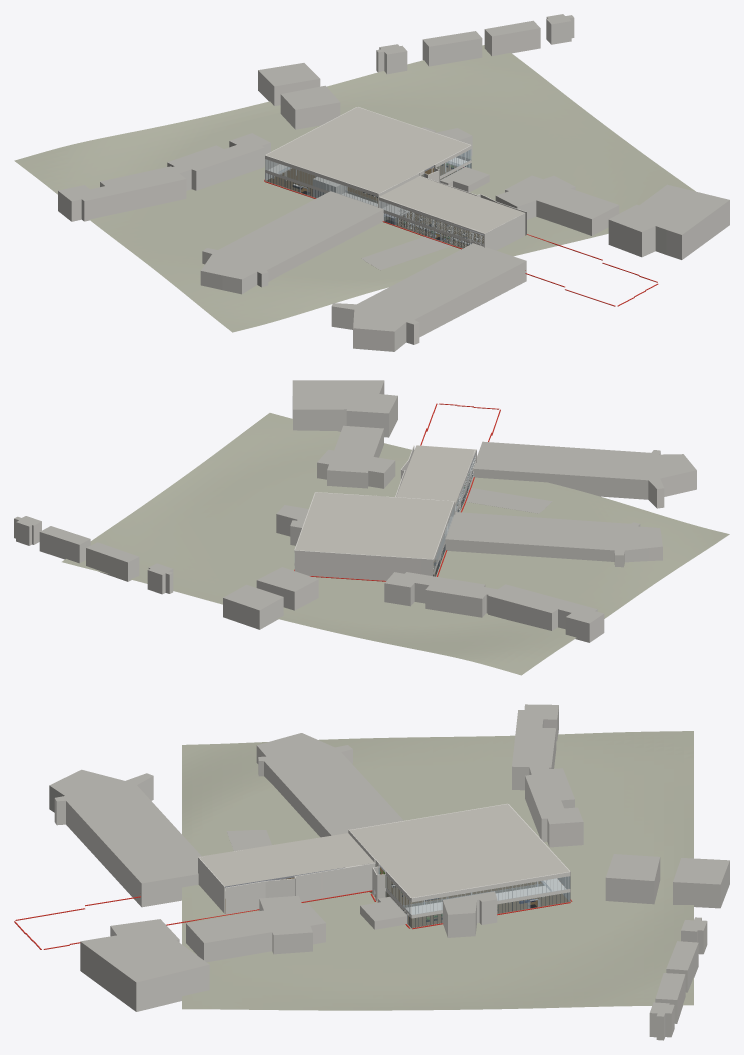
Rendered from NovaHallContext.fbx.
3 renders of one model, top to bottom at view 1: azimuth 30°, elevation 25°; view 2: azimuth 150°, elevation 25°; view 3: azimuth 270°, elevation 25°, orthographic. The views are drawn at different scales.
Visible parts, largest first — view 1: Context_Ground, Hall_Roof, B_w1174472383, B_w496301640, B_w622493089, B_w496301627, Hall_Shell, B_w496301632, Hall_Structure, B_w179614712, B_w179614681, B_w228204163 (+6 smaller); view 2: Context_Ground, Hall_Roof, B_w1174472383, B_w496301640, B_w622493089, B_w496301627, Hall_Shell, B_w496301632, B_w179614681, B_w179614712, B_w228204163, B_w228204161 (+4 smaller); view 3: Context_Ground, Hall_Roof, B_w1174472383, Hall_Shell, B_w496301640, B_w496301627, B_w622493089, B_w496301632, B_w179614681, B_w179614712, Hall_Structure, B_w1174472373 (+7 smaller).
Boxes of the visible parts, x1,y1,x2,y2 form: Context_Ground: (14,45,695,332); Hall_Roof: (266,107,524,247); B_w1174472383: (331,243,526,351); B_w496301640: (200,191,383,294); B_w622493089: (58,133,270,221); B_w496301627: (608,184,729,259); Hall_Shell: (265,107,526,248); B_w496301632: (495,175,619,235); Hall_Structure: (268,157,525,250); B_w179614712: (280,85,340,129); B_w179614681: (258,63,320,106); B_w228204163: (422,31,482,66); Context_Ground: (62,413,729,675); Hall_Roof: (295,445,476,559); B_w1174472383: (473,441,696,508); B_w496301640: (445,512,662,567); B_w622493089: (384,572,604,642); B_w496301627: (292,380,397,437); Hall_Shell: (294,445,475,580); B_w496301632: (317,425,395,488); B_w179614681: (223,584,283,629); B_w179614712: (256,567,318,610); B_w228204163: (86,542,139,581); B_w228204161: (39,526,90,563); Context_Ground: (182,731,693,1010); Hall_Roof: (199,804,569,897); B_w1174472383: (49,769,201,907); Hall_Shell: (200,803,570,928); B_w496301640: (256,733,403,837); B_w496301627: (80,919,209,1011); B_w622493089: (512,704,583,847); B_w496301632: (186,895,325,962); B_w179614681: (673,858,729,908); B_w179614712: (605,854,660,904); Hall_Structure: (198,829,565,914); B_w1174472373: (442,891,497,937).
Bounding box in the file's own units: 302 × 19.35 × 285.
